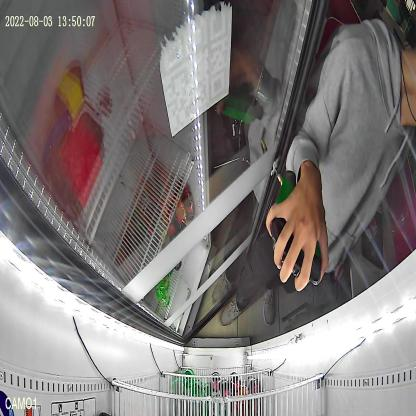green: (270, 169, 326, 285)
